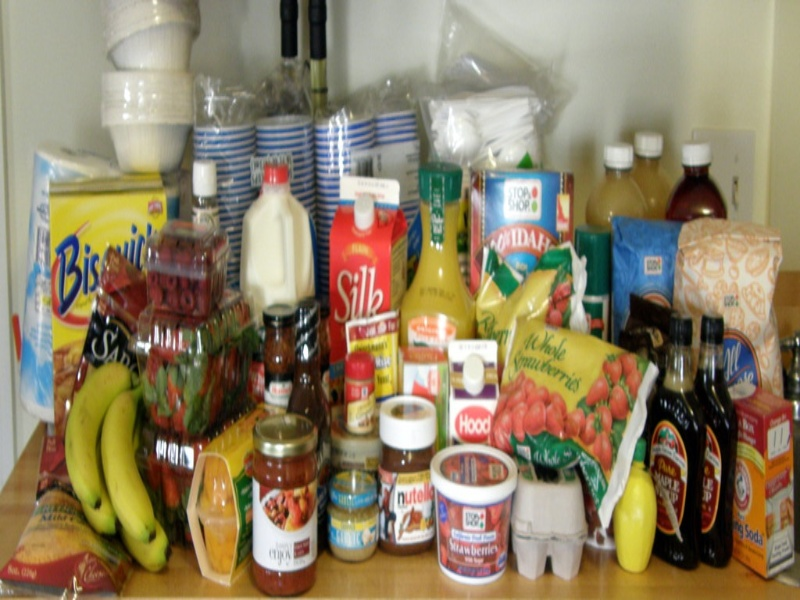banana: (71, 350, 169, 574), (95, 374, 173, 574), (61, 353, 127, 535)
